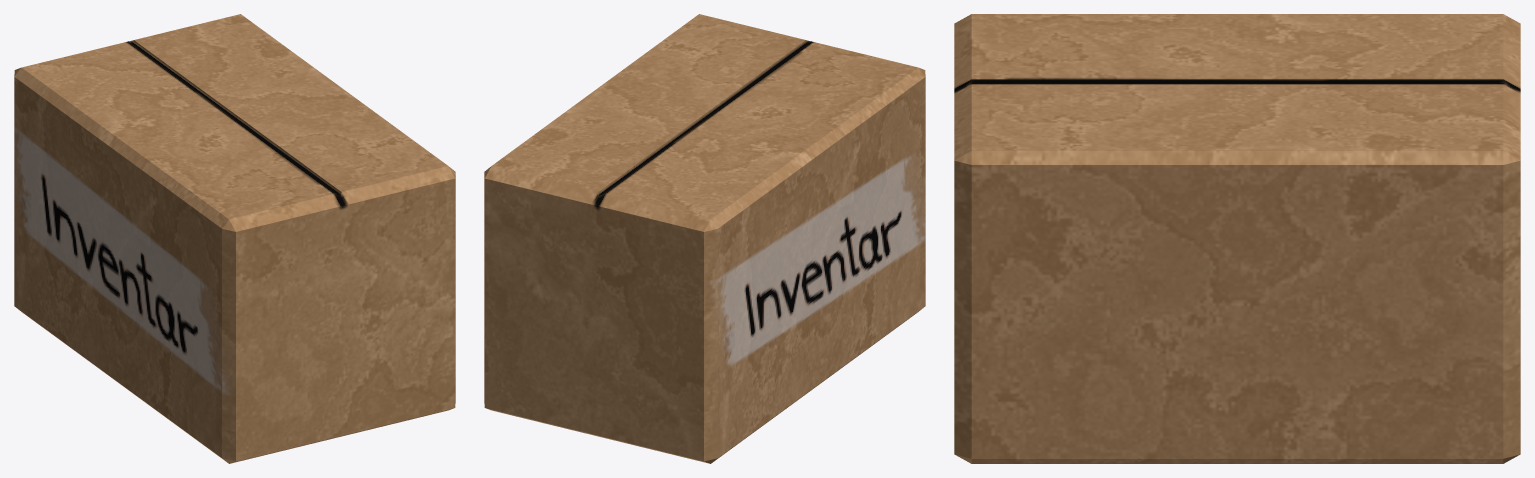
Rendered from mdl_Karton.fbx.
The picture shows the model from 3 angles, left to right: view 1: azimuth 30°, elevation 25°; view 2: azimuth 150°, elevation 25°; view 3: azimuth 270°, elevation 25°; orthographic projection. The views are drawn at different scales.
Parts seen in each view (by area): view 1: Karton.001; view 2: Karton.001; view 3: Karton.001.
Part boxes in pixels (<box>): Karton.001: <box>14,14,455,463</box>; Karton.001: <box>484,14,925,463</box>; Karton.001: <box>954,14,1520,463</box>.
Size of the model in its own units: 52.96 by 52.96 by 86.87.
